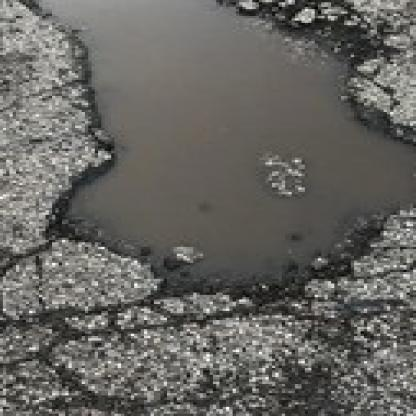pothole: (9, 0, 416, 302)
